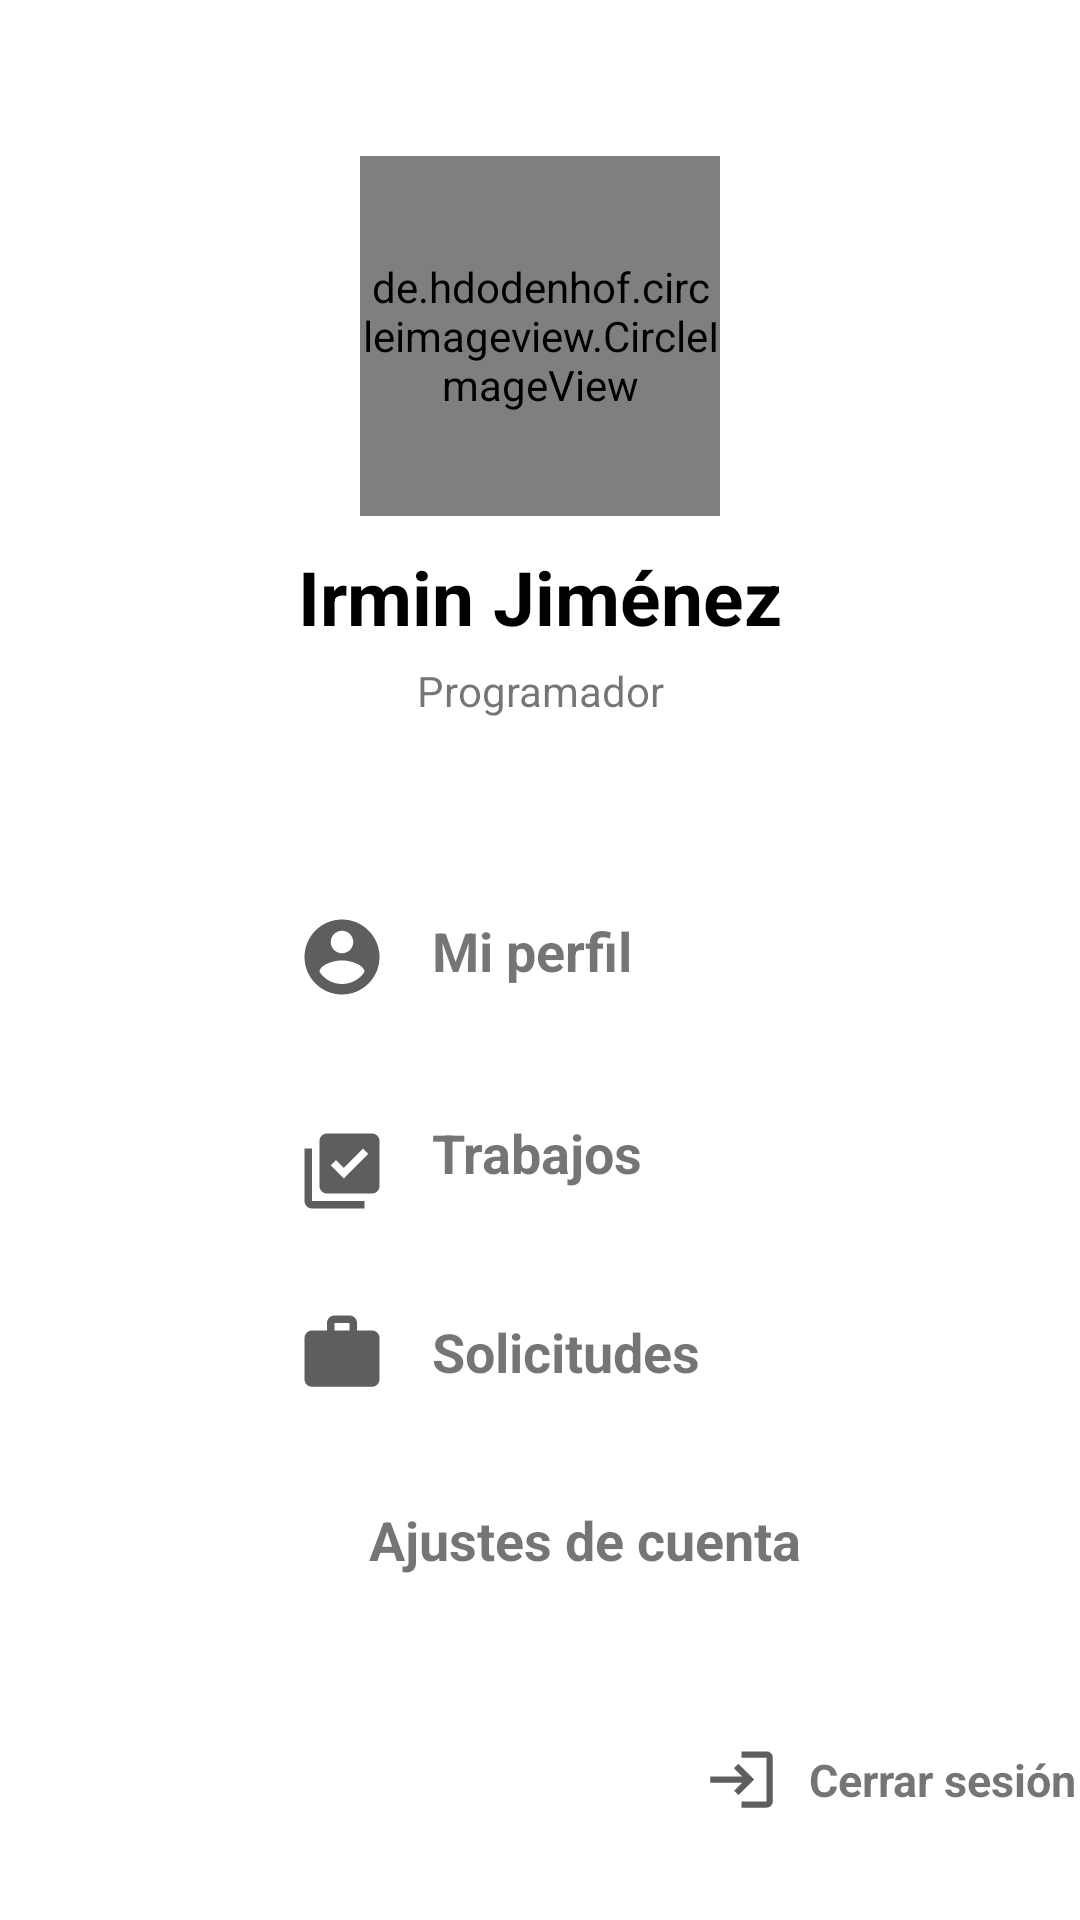

Locate icon controls on the screen. Image size 1080*1920, boxes as (x1, y1, x2, y2).
user: (304, 919, 380, 995)
